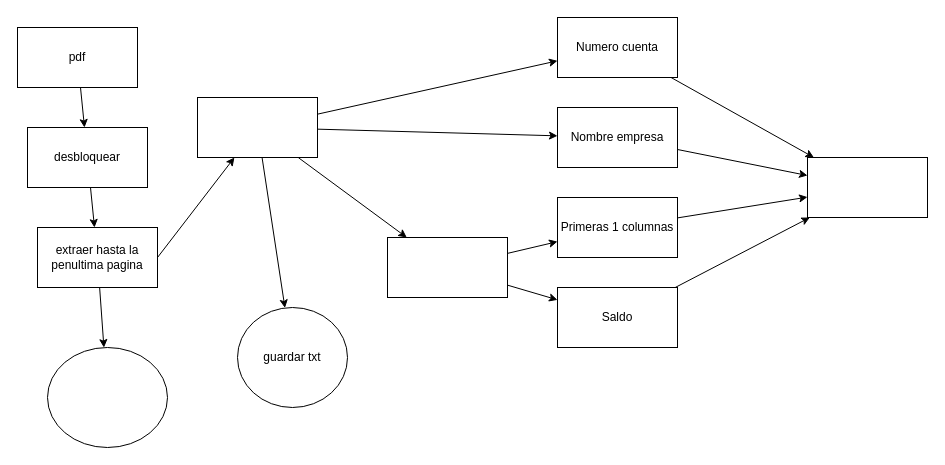
Some shapes in this 945 by 465 pixel diagram are drawn without their labels. Here are the shapes that lost their labels. From the top down, the box of each, then its label:
(196, 96, 318, 158): extraer por paigna el contenido de la linea
(806, 156, 928, 218): excel con formato
(386, 236, 508, 298): contenido principal
(46, 346, 168, 448): guardar pdf desbloeado hasta la penultima pagina
